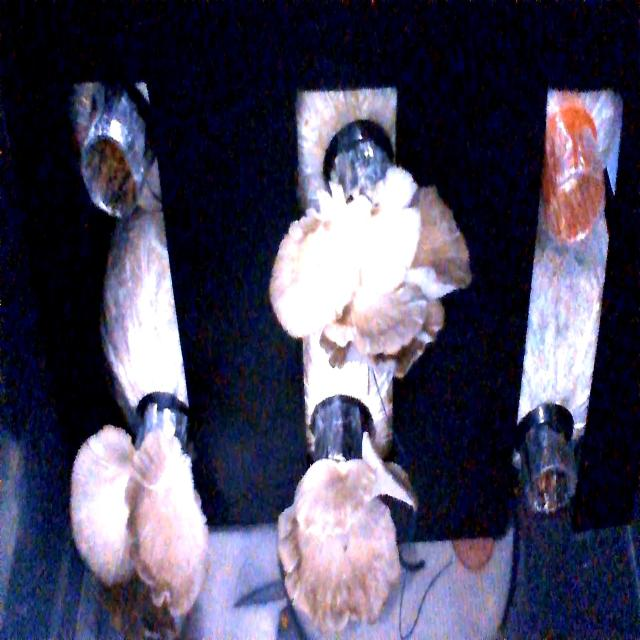big: (273, 200, 449, 356), (80, 426, 206, 602), (280, 455, 411, 618)
nfound: (540, 159, 608, 238), (73, 135, 138, 215), (512, 457, 590, 523)
